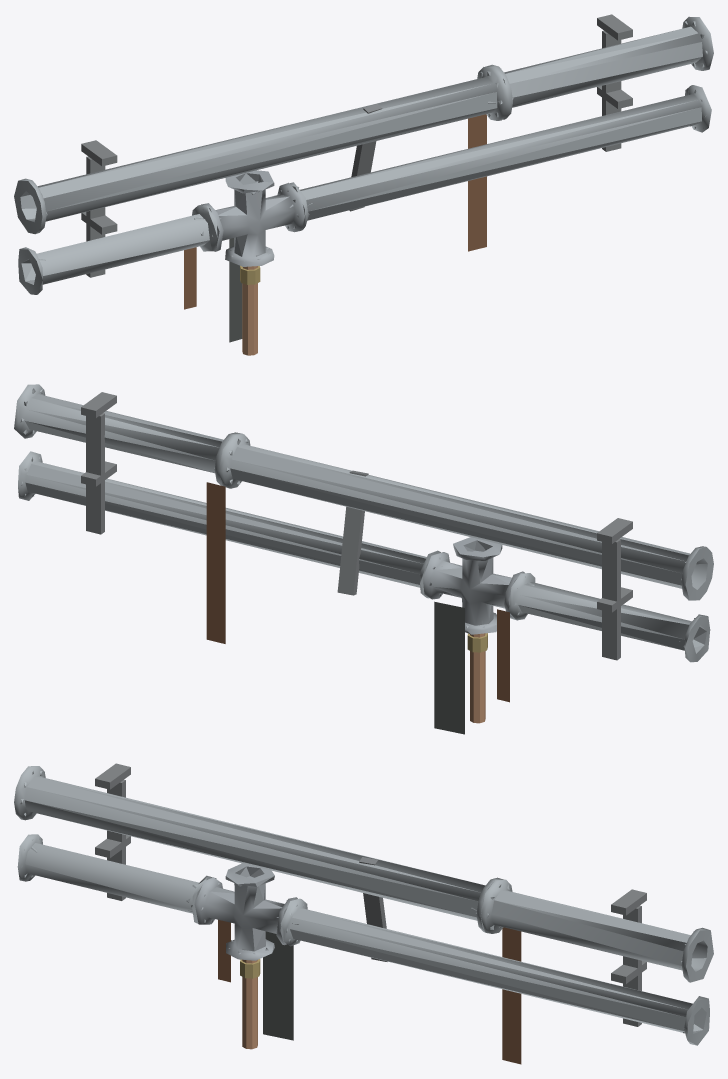
Rendered from Dress_PipeRun_Wall.fbx.
3 views of the same model, one above another, from view 1: azimuth 30°, elevation 25°; view 2: azimuth 150°, elevation 25°; view 3: azimuth 330°, elevation 25° (orthographic).
Visible parts, largest first — view 1: Dress_PipeRun_Wall; view 2: Dress_PipeRun_Wall; view 3: Dress_PipeRun_Wall.
Boxes of the visible parts, <box> form: Dress_PipeRun_Wall: <box>14,14,713,355</box>; Dress_PipeRun_Wall: <box>14,384,713,734</box>; Dress_PipeRun_Wall: <box>14,763,713,1064</box>.
Size of the model in its own units: 250 by 83.3 by 20.65.
